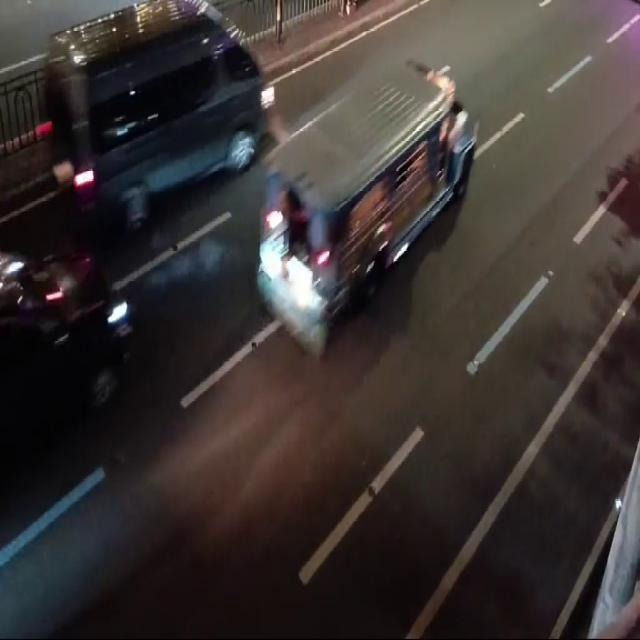car: (54, 31, 268, 196)
jeepney: (255, 61, 478, 319)
